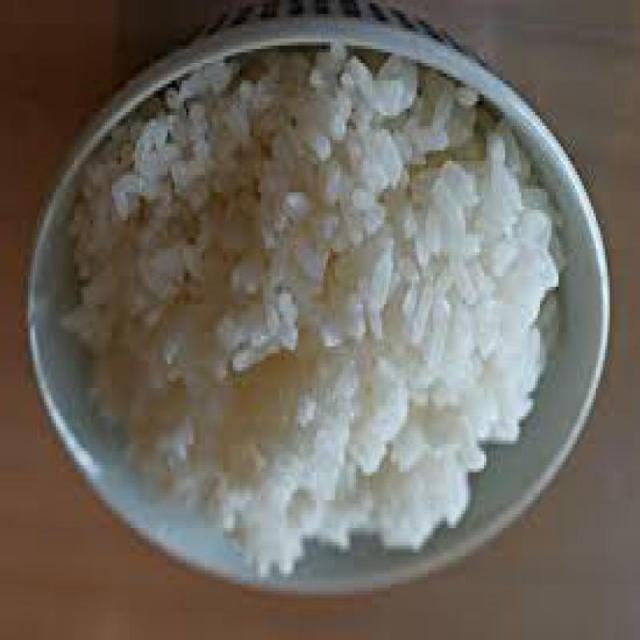nasi_putih: (68, 46, 564, 582)
